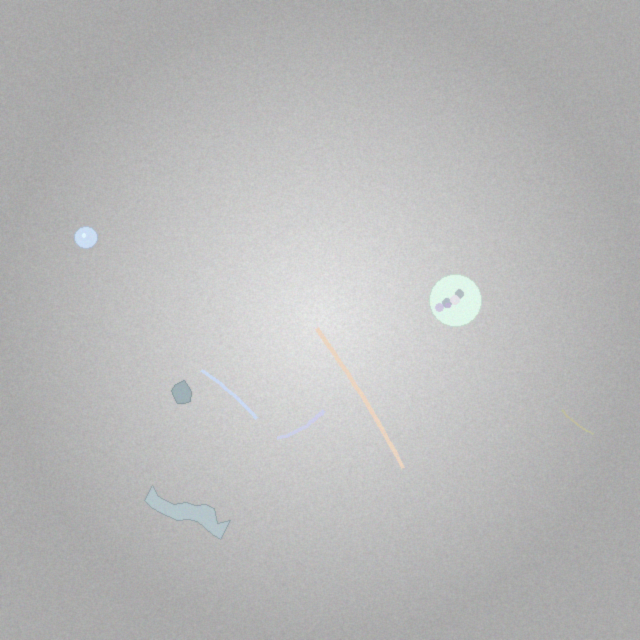fiber: (312, 324, 408, 473), (198, 367, 259, 422), (273, 407, 327, 443), (558, 406, 595, 436)
film: (145, 486, 230, 540)
foam: (429, 274, 482, 327)
fragment: (172, 381, 192, 403)
pellet: (75, 226, 97, 249)
